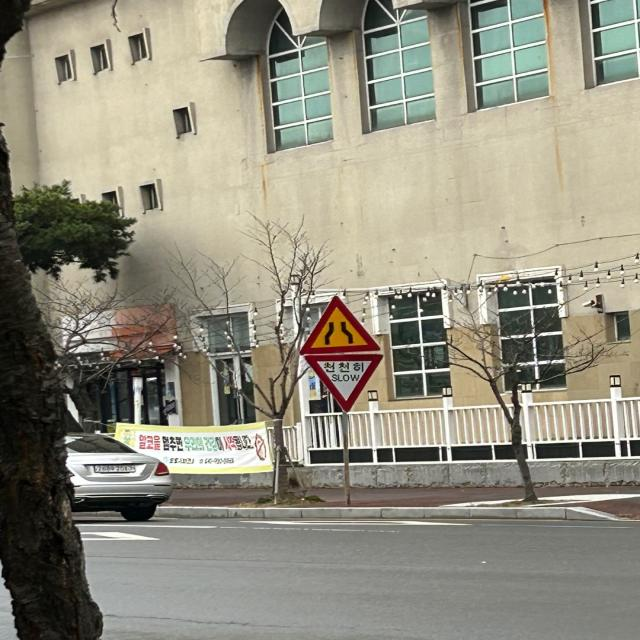Narrow_road_ahead: (295, 294, 384, 353)
regulatory_Drive_slowly: (301, 353, 386, 414)
